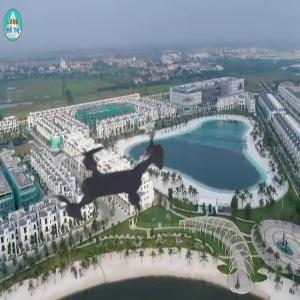drone: (7, 80, 211, 284)
